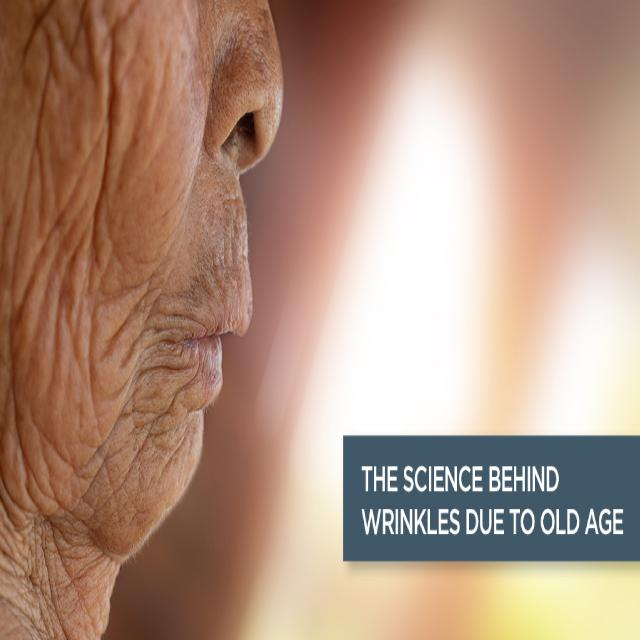Wrinkles: (46, 2, 143, 397), (8, 0, 62, 515), (87, 196, 185, 438), (30, 364, 190, 497), (16, 121, 105, 329), (81, 362, 199, 516), (26, 193, 88, 381), (119, 264, 207, 370), (57, 1, 99, 87)
